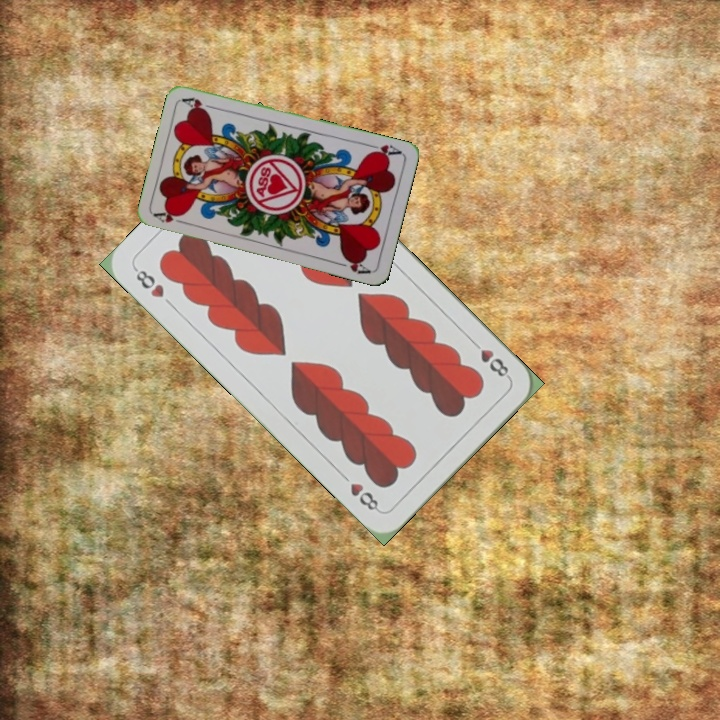H8: (467, 336, 513, 382), (130, 264, 167, 301)
HA: (363, 140, 404, 160), (151, 207, 191, 227)
